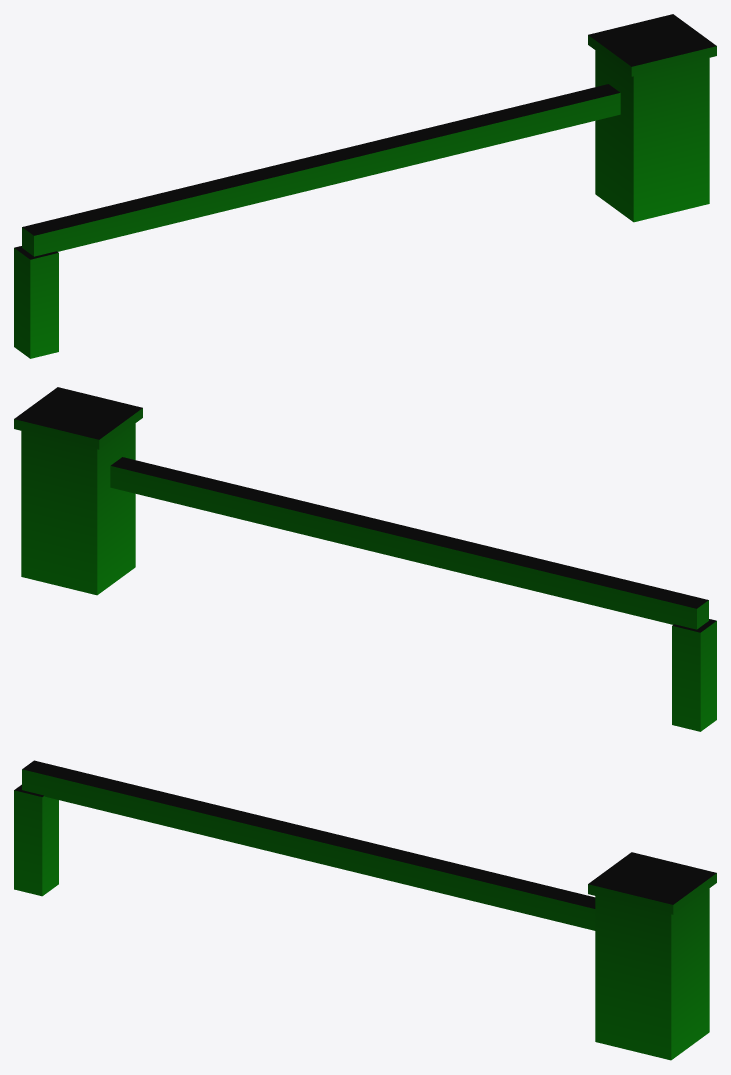
The model's file is milcheckpoint.glb.
The picture shows the model from 3 angles, top to bottom: view 1: azimuth 30°, elevation 25°; view 2: azimuth 150°, elevation 25°; view 3: azimuth 330°, elevation 25°; orthographic projection.
Parts seen in each view (by area): view 1: lod0; view 2: lod0; view 3: lod0.
Part boxes in pixels (x1,y1,x2,y2): lod0: (14, 14, 716, 358); lod0: (14, 387, 716, 731); lod0: (14, 760, 716, 1060).
Size of what is drawn, in the model's own units: 7.1 by 1.6 by 0.8.
